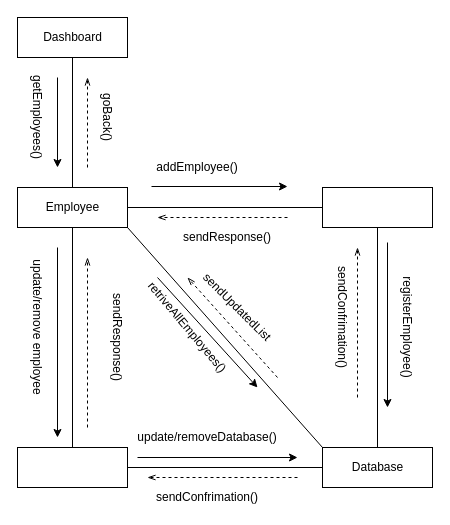
Image size: 450x525. Some labels were removed from this diagram. The centre of each missing label's shape, as x and y in pixels:
"Edit/Remove" belongs at pixel 72 467.
"NewEmployee" belongs at pixel 377 207.
